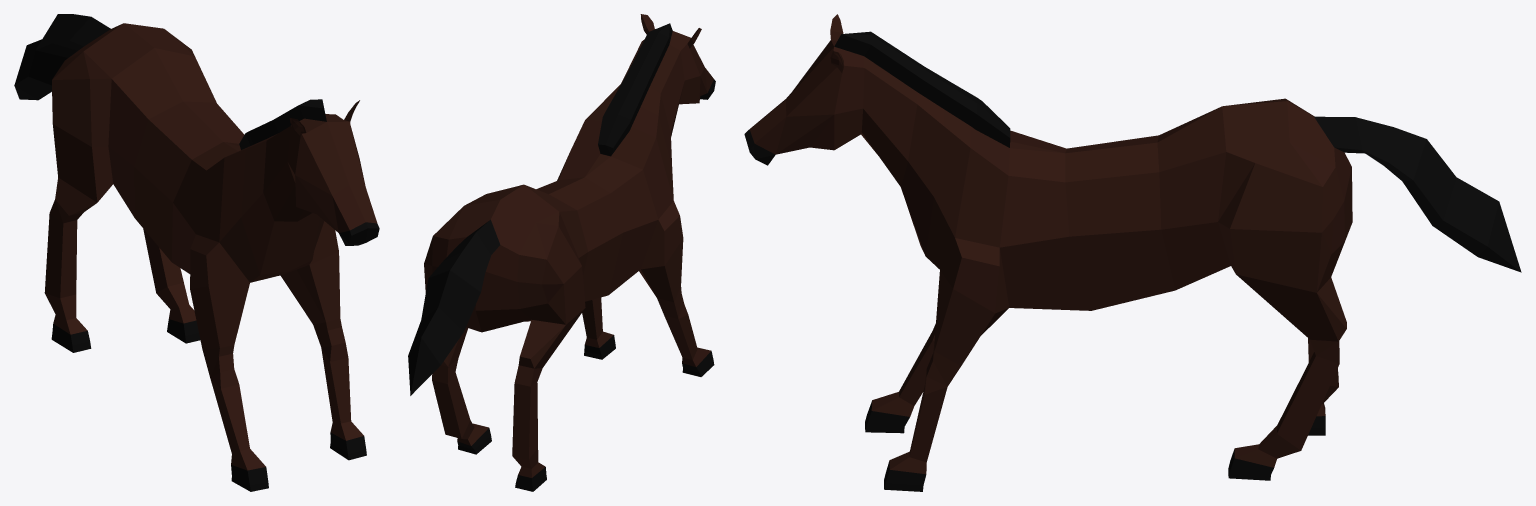
The model's file is Horse_000028.obj.
The picture shows the model from 3 angles, left to right: view 1: azimuth 30°, elevation 25°; view 2: azimuth 150°, elevation 25°; view 3: azimuth 270°, elevation 25°; orthographic projection. The views are drawn at different scales.
Parts seen in each view (by area): view 1: Horse_Cylinder; view 2: Horse_Cylinder; view 3: Horse_Cylinder.
Part boxes in pixels (<box>): Horse_Cylinder: <box>14,14,379,491</box>; Horse_Cylinder: <box>408,14,715,491</box>; Horse_Cylinder: <box>744,14,1521,491</box>.
Size of the model in its own units: 2.55 by 6.31 by 10.48.
